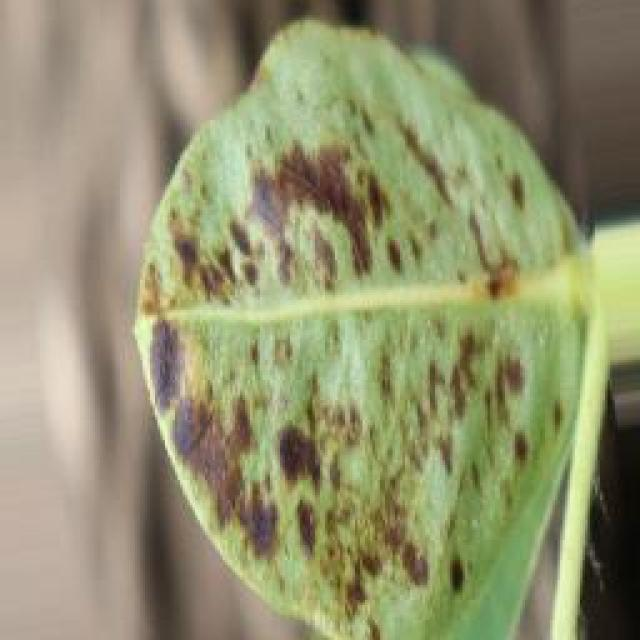Whitefly: (96, 46, 559, 640)
